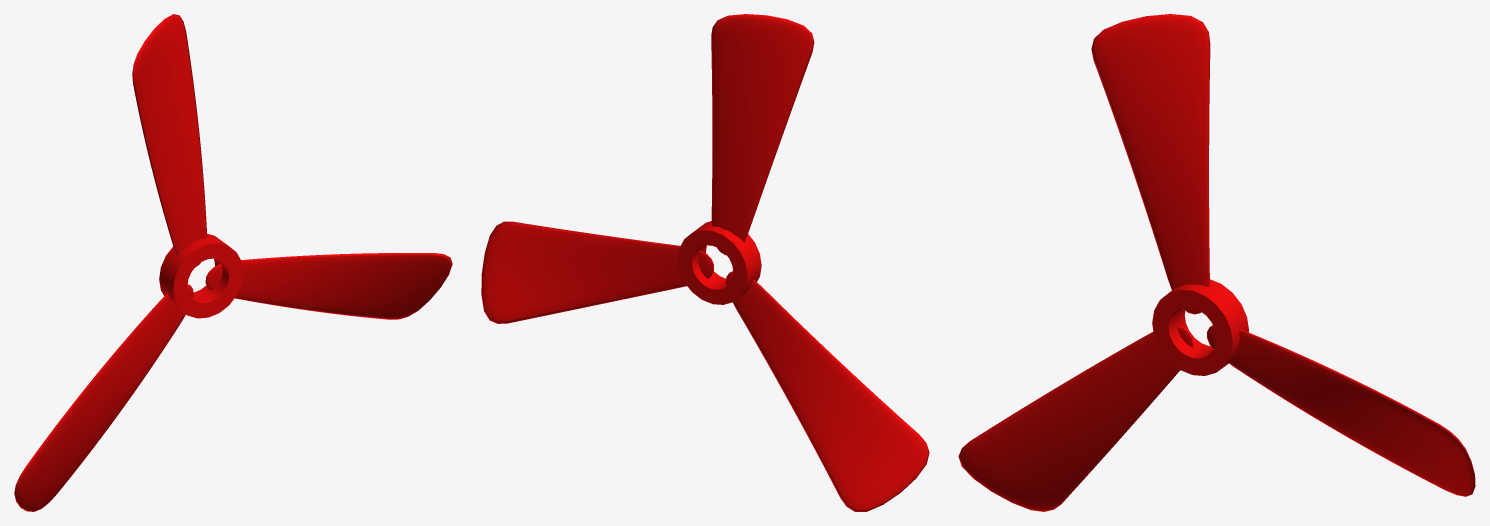
The model's file is blades.dae.
3 renders of one model, left to right at view 1: azimuth 30°, elevation 25°; view 2: azimuth 150°, elevation 25°; view 3: azimuth 330°, elevation 25°, orthographic. The views are drawn at different scales.
Parts seen in each view (by area): view 1: obj.004, obj.003; view 2: obj.004, obj.003; view 3: obj.004, obj.003.
Part boxes in pixels (box(x1,y1,x2,y2)): obj.004: box(14, 14, 452, 511); obj.003: box(159, 233, 243, 318); obj.004: box(481, 14, 929, 511); obj.003: box(677, 221, 761, 304); obj.004: box(958, 14, 1475, 511); obj.003: box(1152, 279, 1248, 375).
Size of the model in its own units: 14.13 by 1.41 by 14.32.
